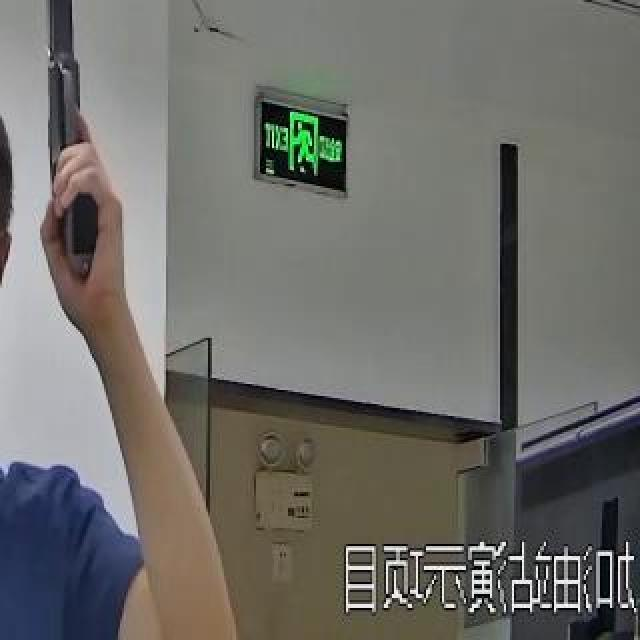Guns: (12, 0, 130, 290)
